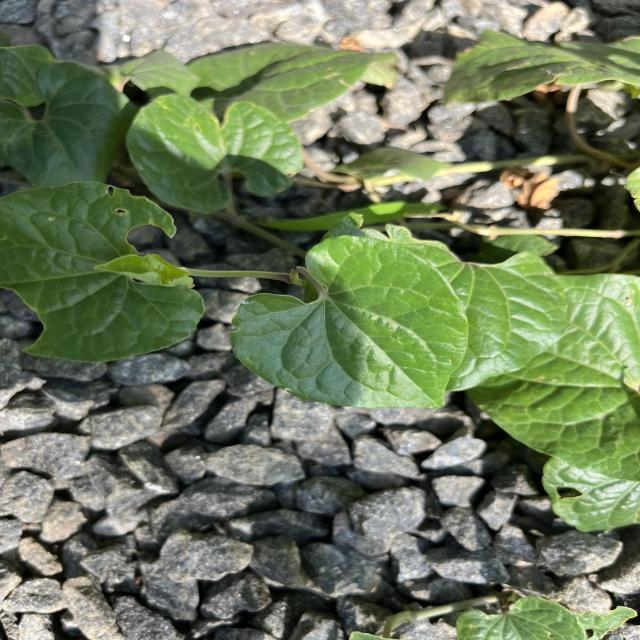Piper longum: (221, 230, 471, 412)
